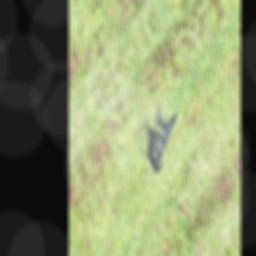Crow: (137, 84, 187, 177)
